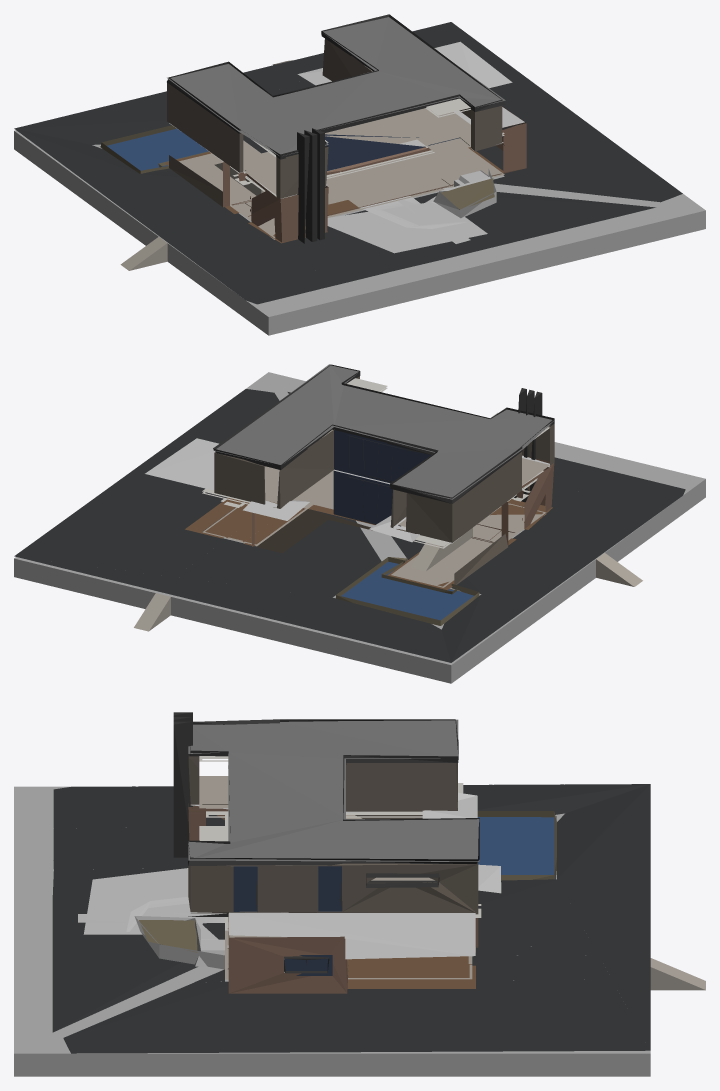
The model's file is pool-villa.zfix-v1.lod2.glb.
3 renders of one model, top to bottom at view 1: azimuth 30°, elevation 25°; view 2: azimuth 150°, elevation 25°; view 3: azimuth 270°, elevation 25°, orthographic. The views are drawn at different scales.
Parts seen in each view (by area): view 1: Box001_Material #8_0; view 2: Box001_Material #8_0; view 3: Box001_Material #8_0.
Boxes of the visible parts, x1,y1,x2,y2 form: Box001_Material #8_0: (14, 14, 705, 335); Box001_Material #8_0: (14, 364, 705, 683); Box001_Material #8_0: (14, 712, 705, 1076).
Bounding box in the file's own units: 37.75 × 9.63 × 38.05.
